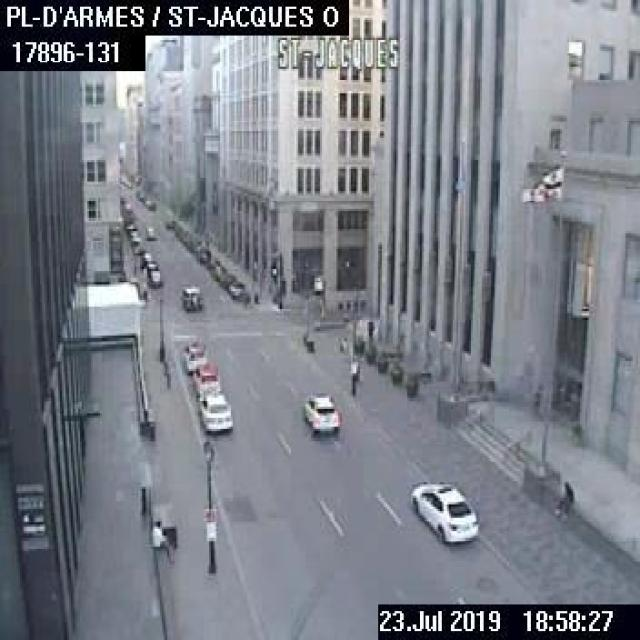pedestrian: (149, 518, 173, 562), (552, 478, 574, 516)
vehicle: (406, 478, 478, 542), (302, 392, 338, 431), (198, 392, 231, 433), (190, 362, 220, 397), (180, 338, 205, 372), (180, 284, 202, 310), (141, 260, 158, 284), (229, 280, 244, 298), (137, 251, 153, 267), (130, 235, 142, 253), (144, 225, 154, 238), (165, 215, 175, 227)
